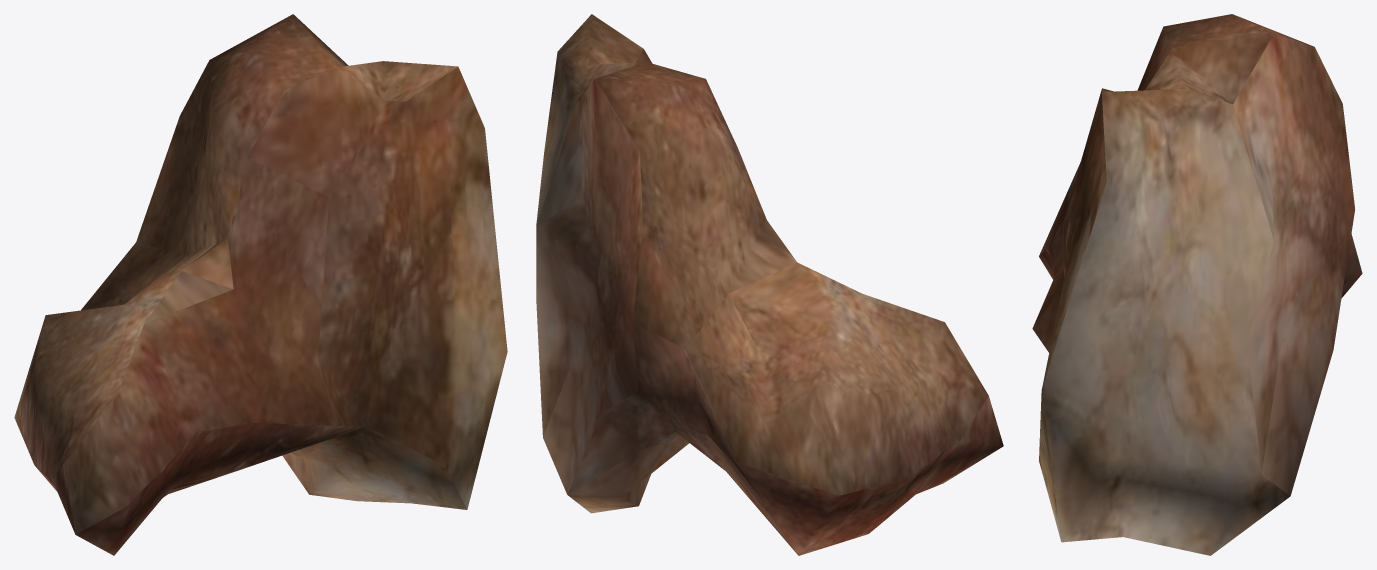
File: stone_01_lo.glb
3 renders of one model, left to right at view 1: azimuth 30°, elevation 25°; view 2: azimuth 150°, elevation 25°; view 3: azimuth 270°, elevation 25°, orthographic. The views are drawn at different scales.
Parts seen in each view (by area): view 1: stone_01_lo; view 2: stone_01_lo; view 3: stone_01_lo.
Part boxes in pixels (x1,y1,x2,y2): stone_01_lo: (14,14,507,555); stone_01_lo: (536,14,1003,555); stone_01_lo: (1032,14,1362,555).
Bounding box in the file's own units: 0.9415 × 0.9892 × 0.5863.
Materials: 1 (1 with a texture image).
